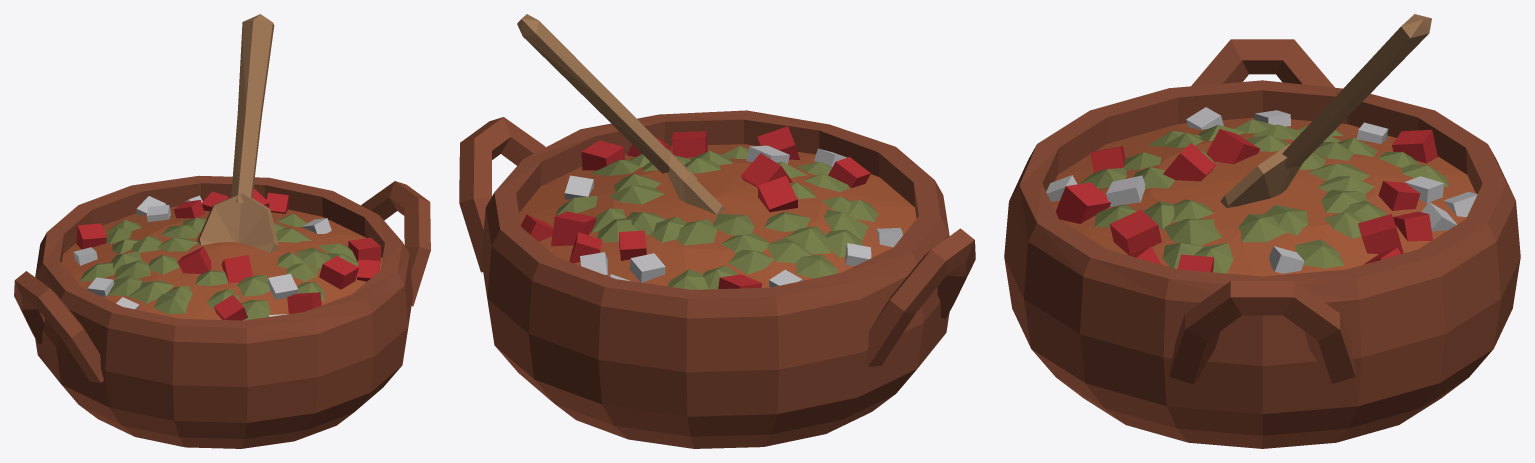
Rendered from pot-of-pebre-409c80.glb.
The picture shows the model from 3 angles, left to right: view 1: azimuth 30°, elevation 25°; view 2: azimuth 150°, elevation 25°; view 3: azimuth 270°, elevation 25°; orthographic projection. The views are drawn at different scales.
Parts seen in each view (by area): view 1: pot-of-pebre-body, spoon-mesh; view 2: pot-of-pebre-body, spoon-mesh; view 3: pot-of-pebre-body, spoon-mesh.
Boxes of the visible parts, bbox=[...] form: pot-of-pebre-body: bbox=[14, 175, 430, 448]; spoon-mesh: bbox=[197, 14, 278, 253]; pot-of-pebre-body: bbox=[459, 110, 975, 448]; spoon-mesh: bbox=[517, 14, 726, 214]; pot-of-pebre-body: bbox=[1004, 39, 1520, 448]; spoon-mesh: bbox=[1220, 14, 1431, 207].
Bounding box in the file's own units: 0.1919 × 0.1435 × 0.163.
